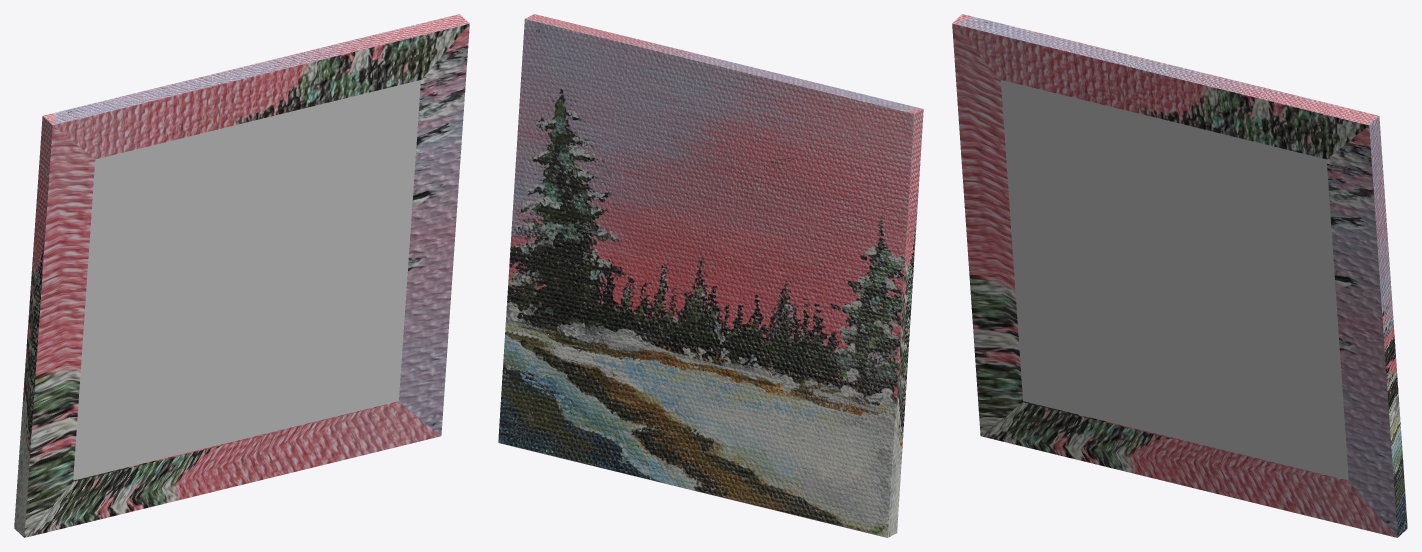
File: PinkSky.gltf
The picture shows the model from 3 angles, left to right: view 1: azimuth 30°, elevation 25°; view 2: azimuth 150°, elevation 25°; view 3: azimuth 330°, elevation 25°; orthographic projection. The views are drawn at different scales.
Parts seen in each view (by area): view 1: Plane.011; view 2: Plane.011; view 3: Plane.011.
Part boxes in pixels (x1,y1,x2,y2): Plane.011: (14,14,469,537); Plane.011: (498,14,923,537); Plane.011: (952,14,1407,537).
Bounding box in the file's own units: 5 × 4.99 × 0.8026.
Materials: 2 (1 with a texture image).
